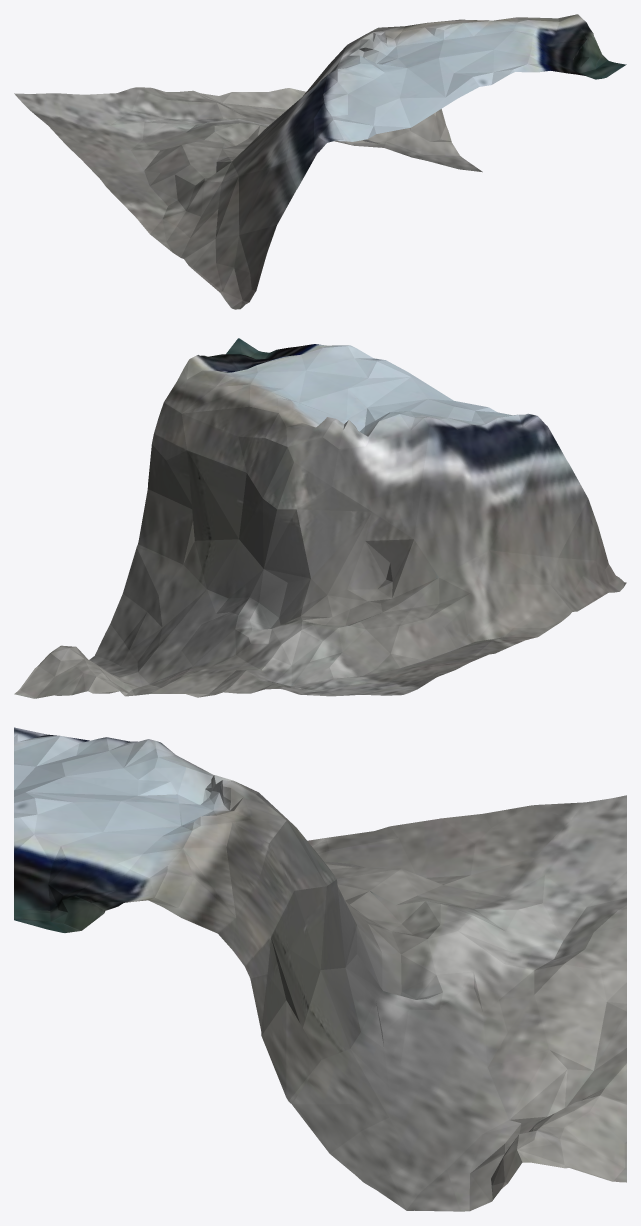
3 views of the same model, one above another, from view 1: azimuth 30°, elevation 25°; view 2: azimuth 150°, elevation 25°; view 3: azimuth 270°, elevation 25° (orthographic). The views are drawn at different scales.
Bounding box in the file's own units: 1.67 × 0.964 × 1.67.
3 materials, 3 textured.
